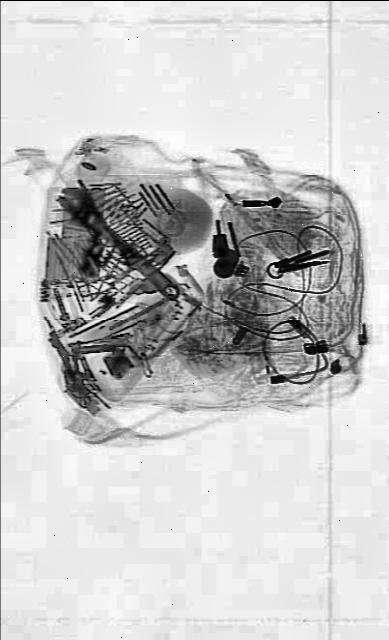Wrench: (50, 170, 182, 322)
